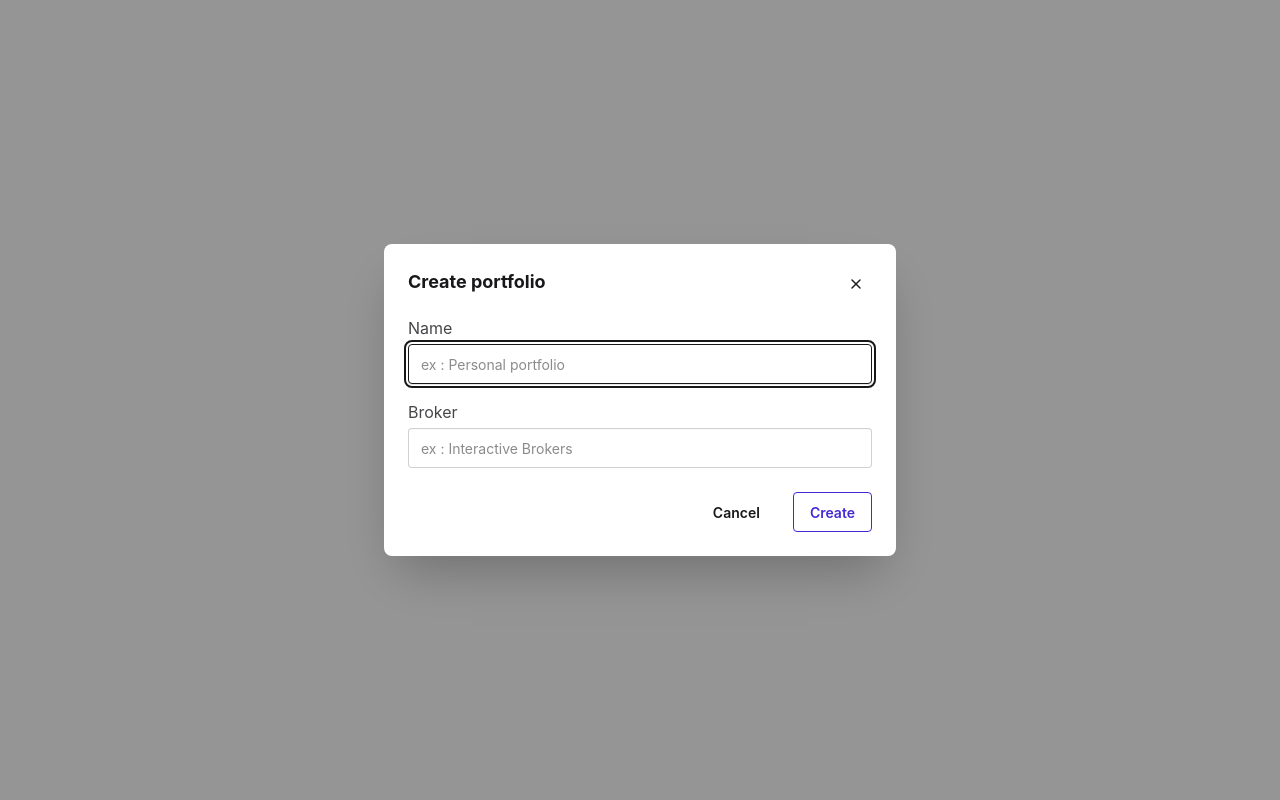
Test: CreatePortfolioModal › shows validation error when submitting with empty broker
Step 1. Type "My Fund" into the field with test id "portfolio-name" → {"x": 640, "y": 364}, box [408,344,872,384]
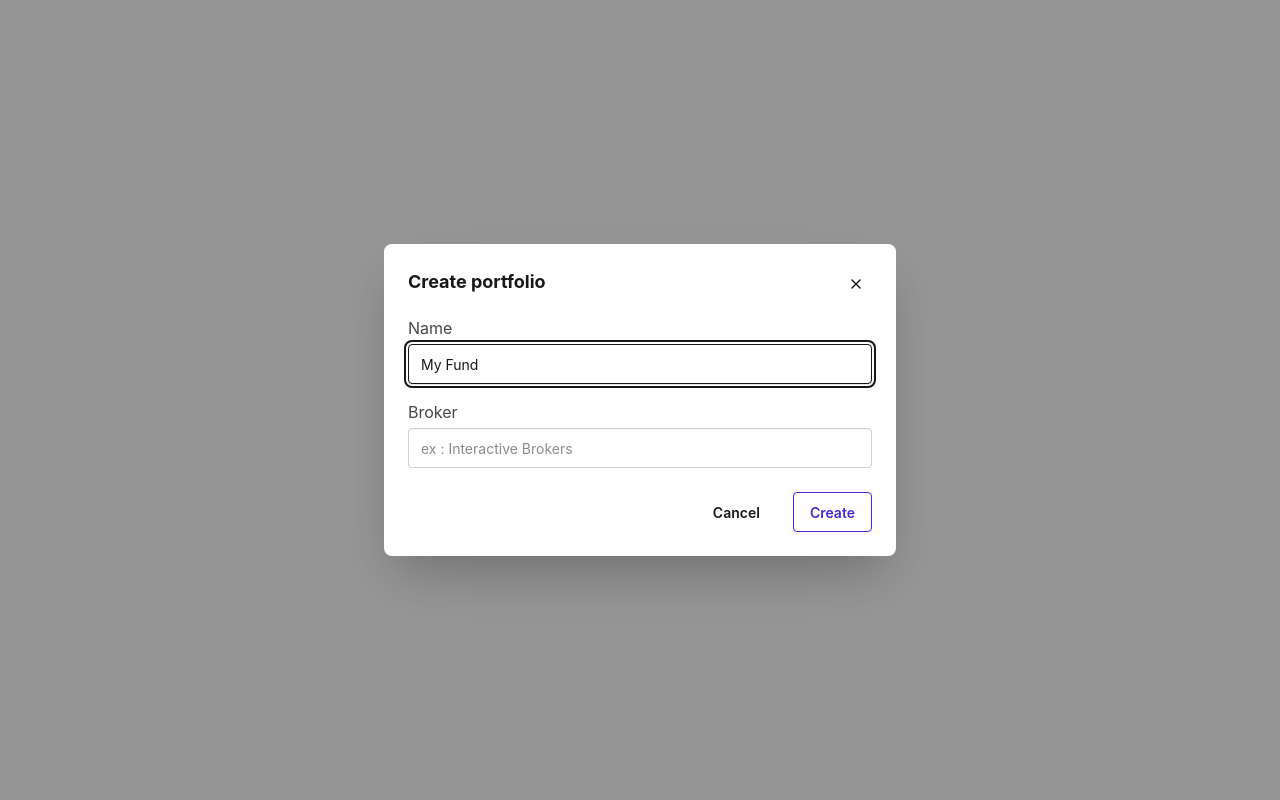
Step 2. Click the button with test id "form-confirm-button" → {"x": 832, "y": 512}, box [793,492,872,532]
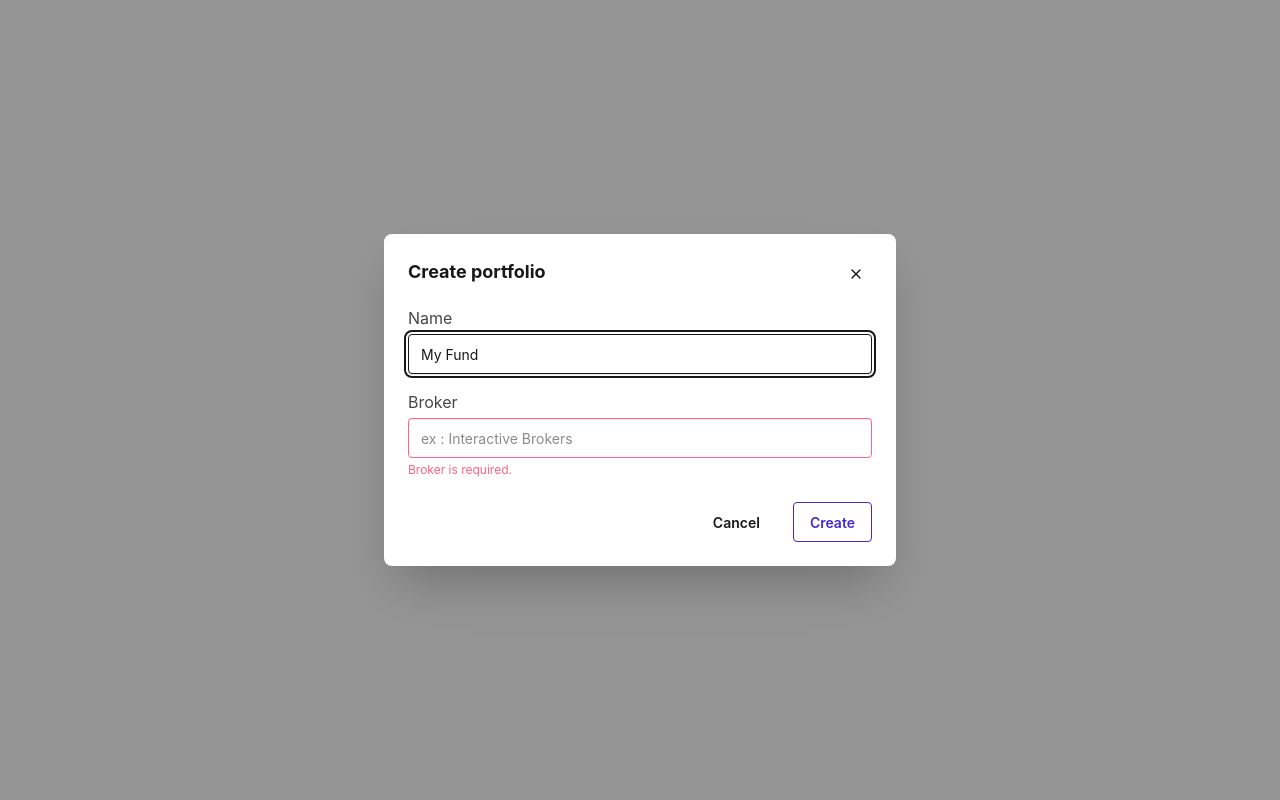
expect the text with test id "portfolio-broker-error" reads "Broker is required.": met, box [408,462,512,477]
